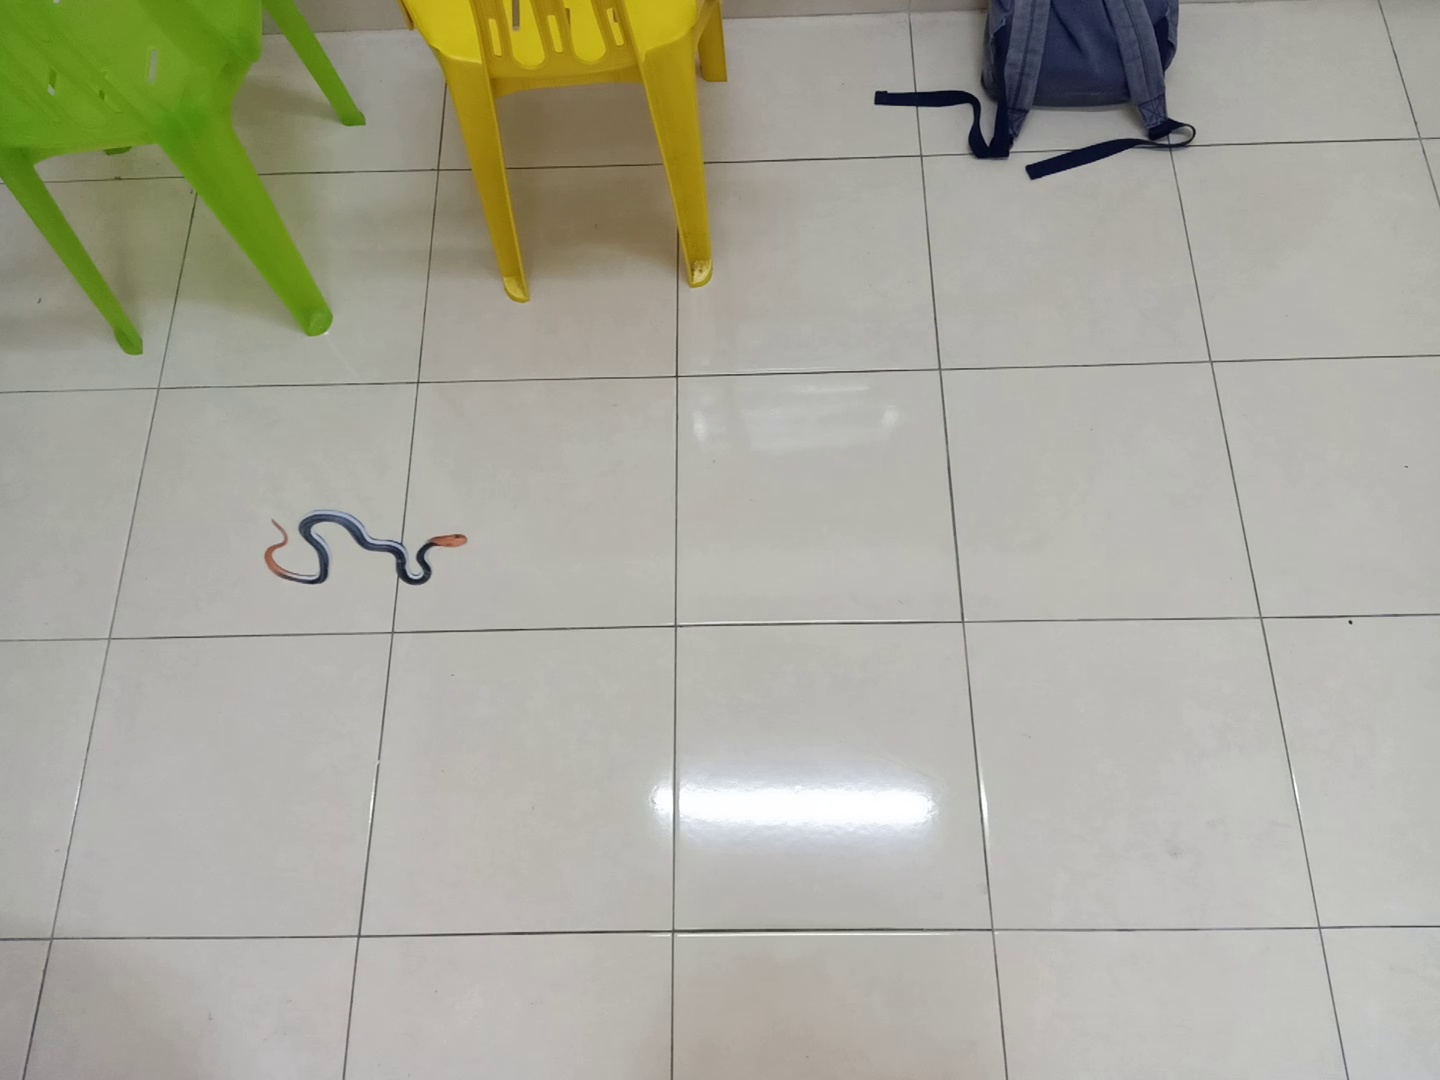snake: (259, 503, 478, 593)
